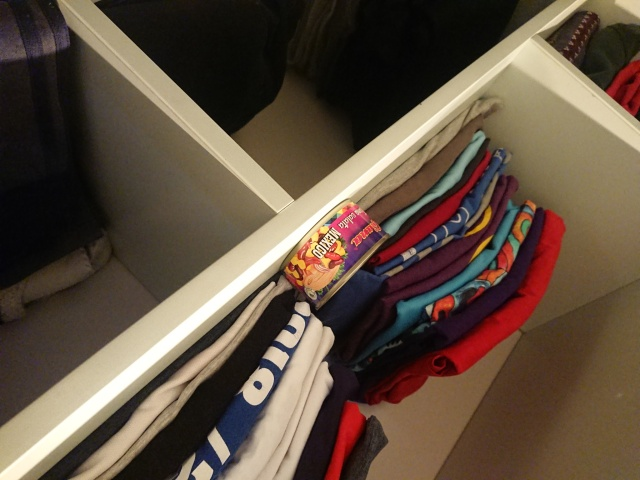Giana Tuna Salad Mexico 185g: (276, 196, 394, 312)
